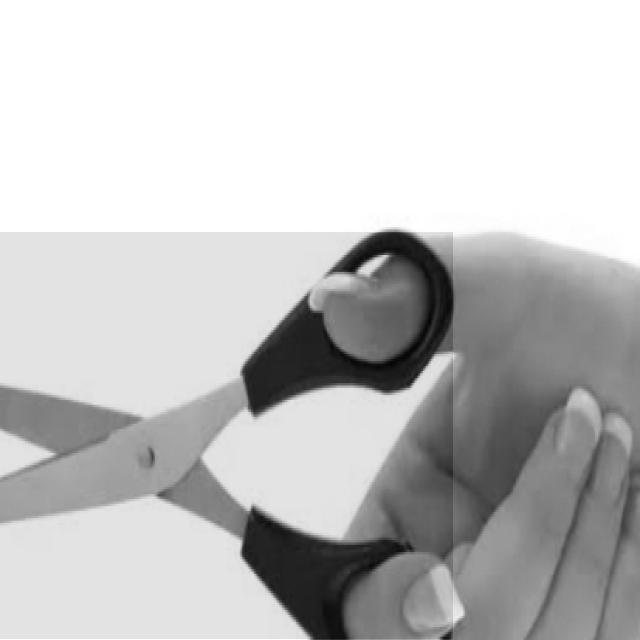tesoura: (0, 232, 453, 639)
